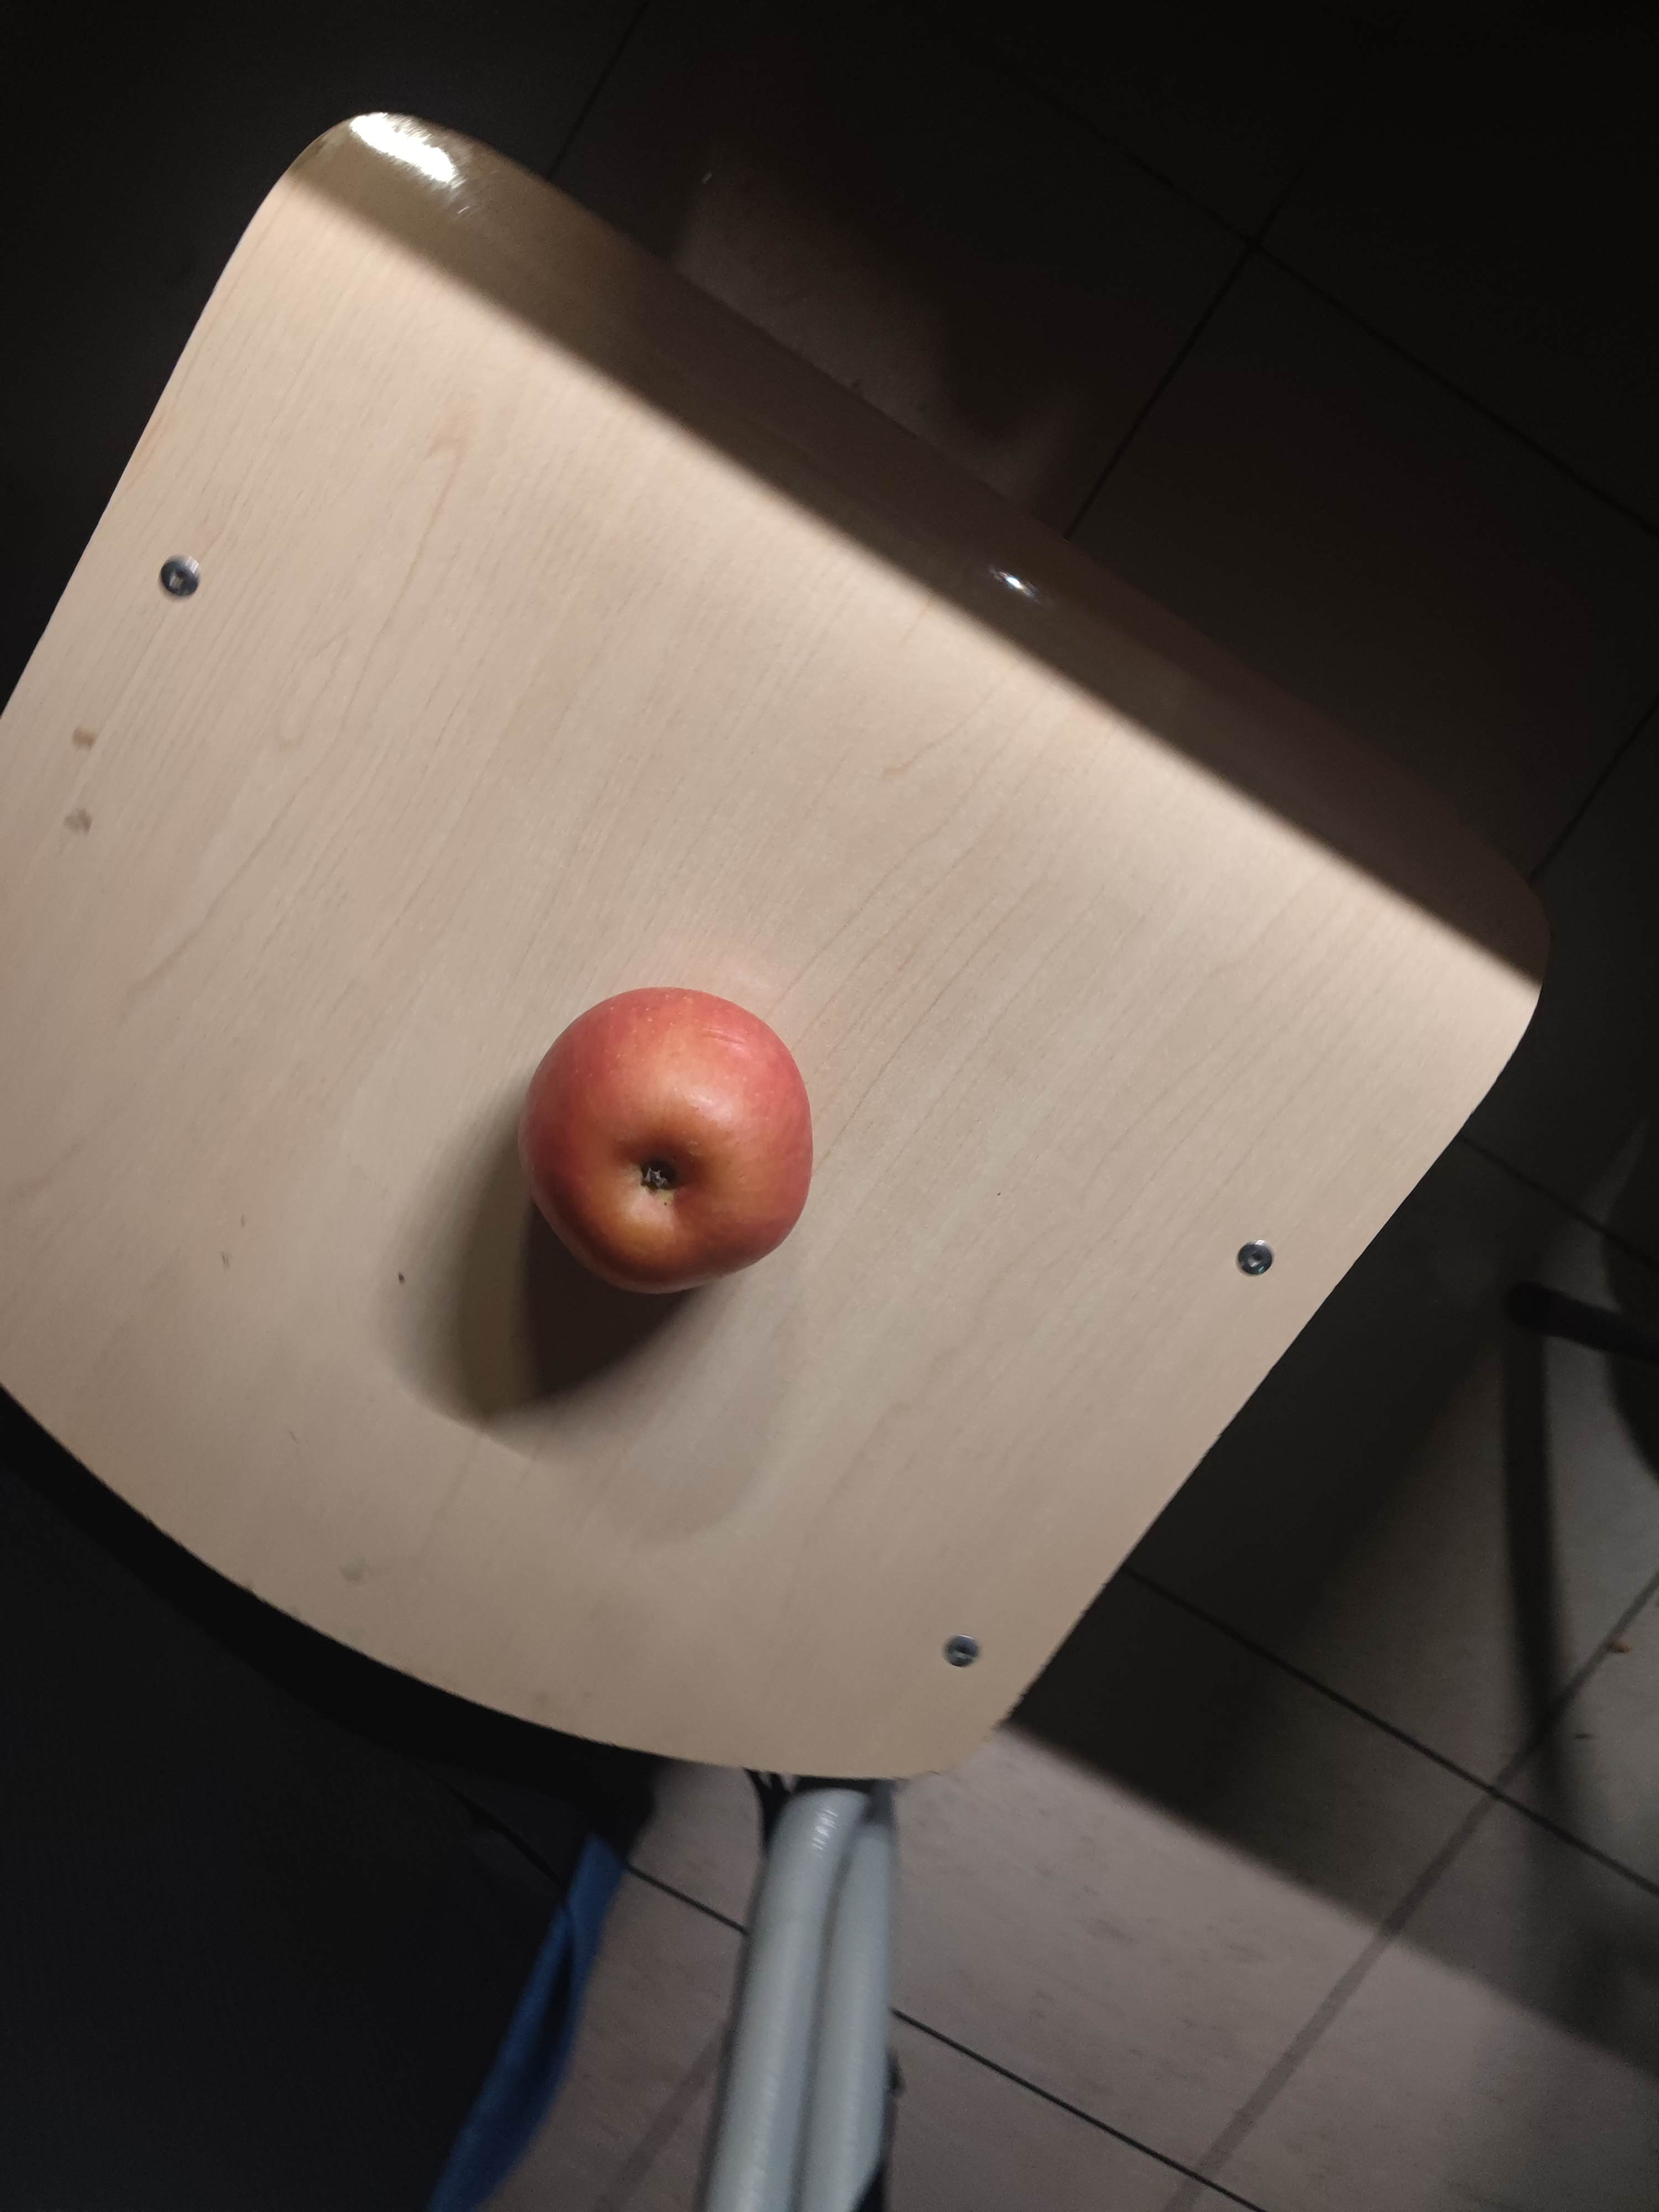apple: (519, 986, 821, 1298)
